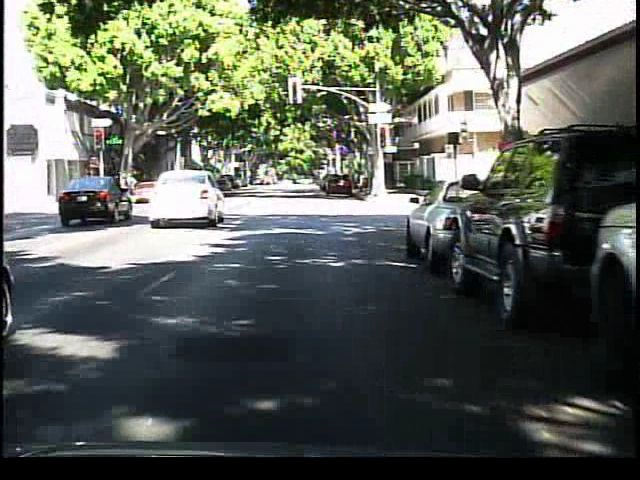person: (122, 161, 147, 200)
